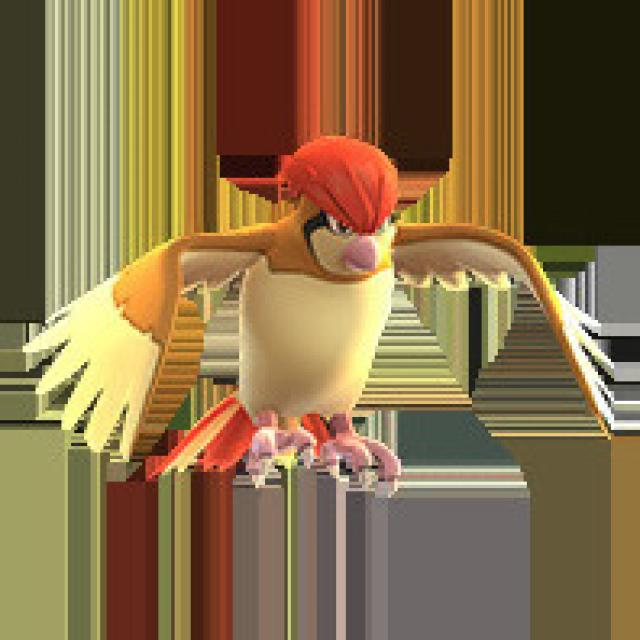Pidgeotto: (27, 128, 565, 490)
